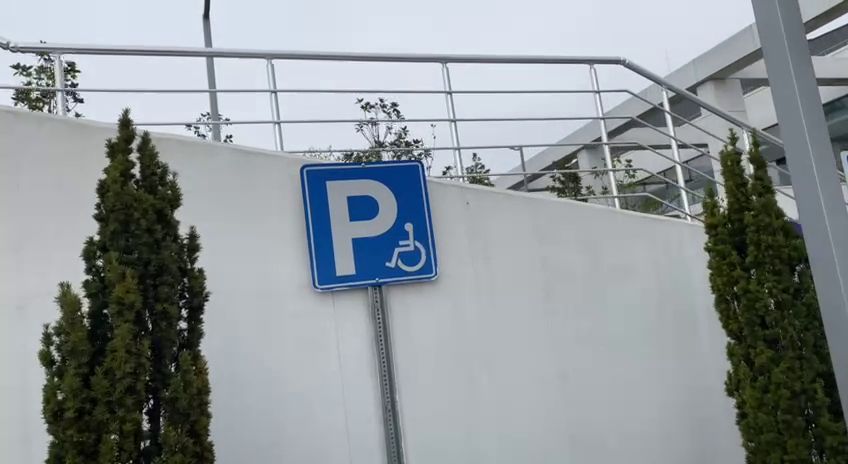parking: (299, 159, 441, 293)
